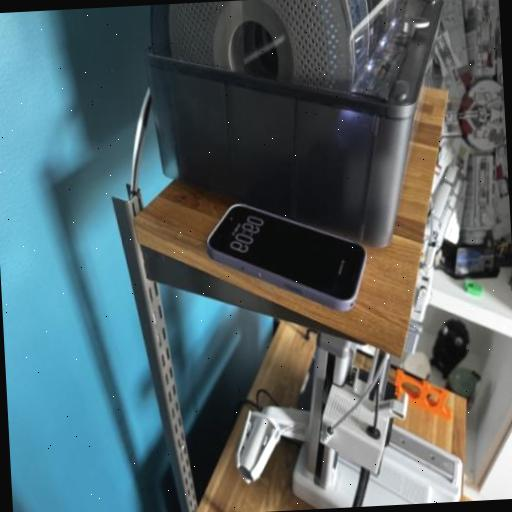phone: (170, 184, 366, 330)
